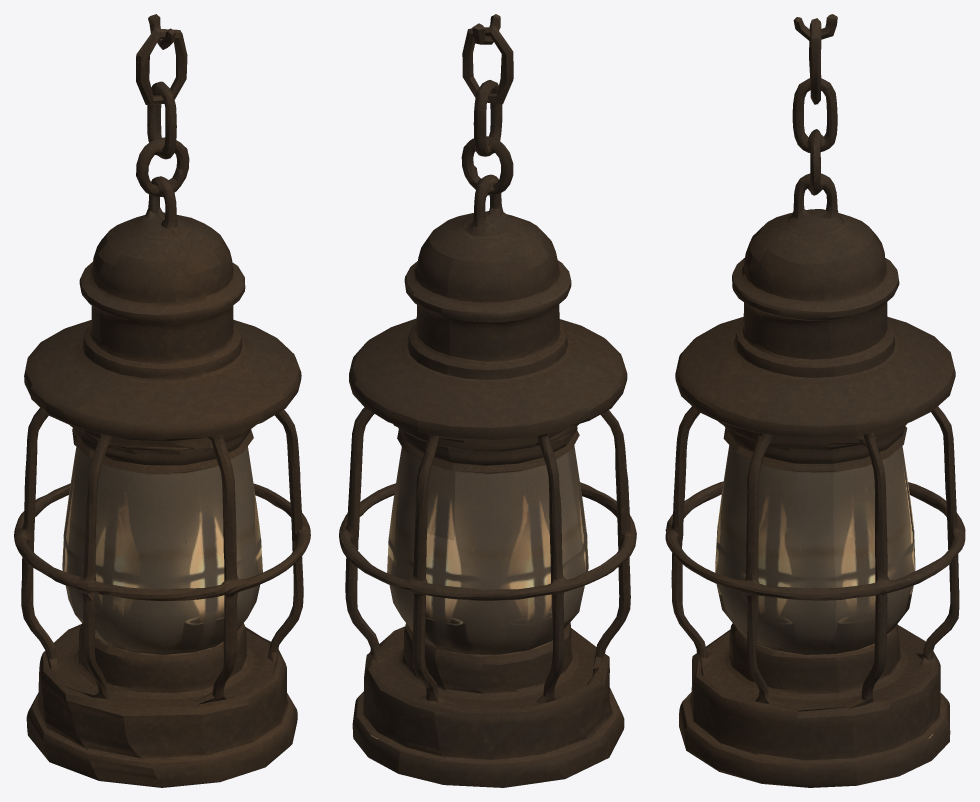
The model's file is Rustic lantern (obj_lantern).glb.
3 views of the same model, side by side, from view 1: azimuth 30°, elevation 25°; view 2: azimuth 150°, elevation 25°; view 3: azimuth 270°, elevation 25° (orthographic).
Parts seen in each view (by area): view 1: Mesh0; view 2: Mesh0; view 3: Mesh0.
Boxes of the visible parts, <box> form: Mesh0: <box>14,14,310,787</box>; Mesh0: <box>339,14,636,787</box>; Mesh0: <box>665,14,965,787</box>.
Size of the model in its own units: 0.7192 by 1.9 by 0.7209.
Materials: 1 (1 with a texture image).
